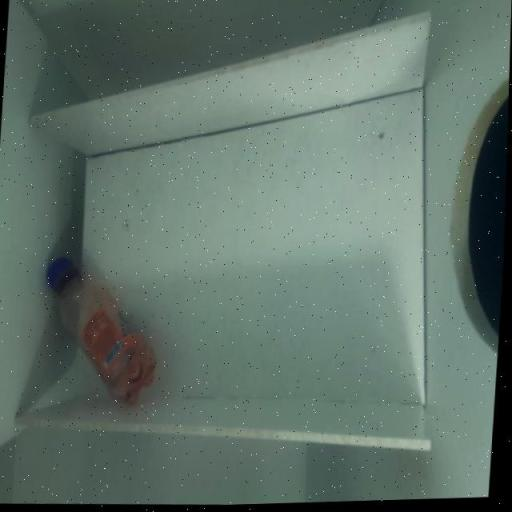plastic: (34, 231, 176, 427)
